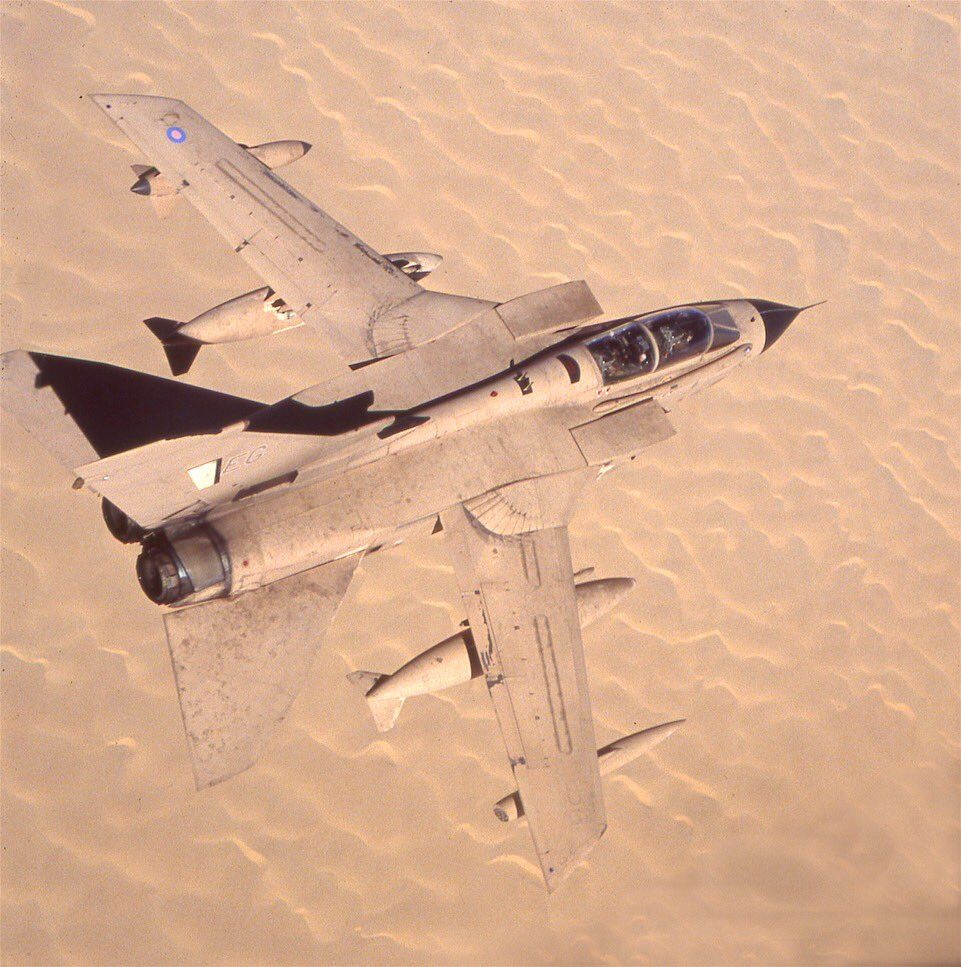Tornado: (1, 93, 829, 896)
